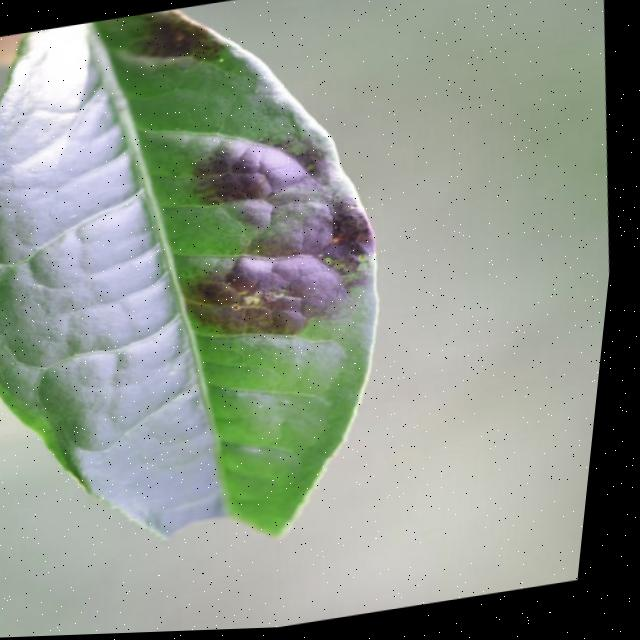Tea exobasidium blight: (171, 129, 392, 349)
